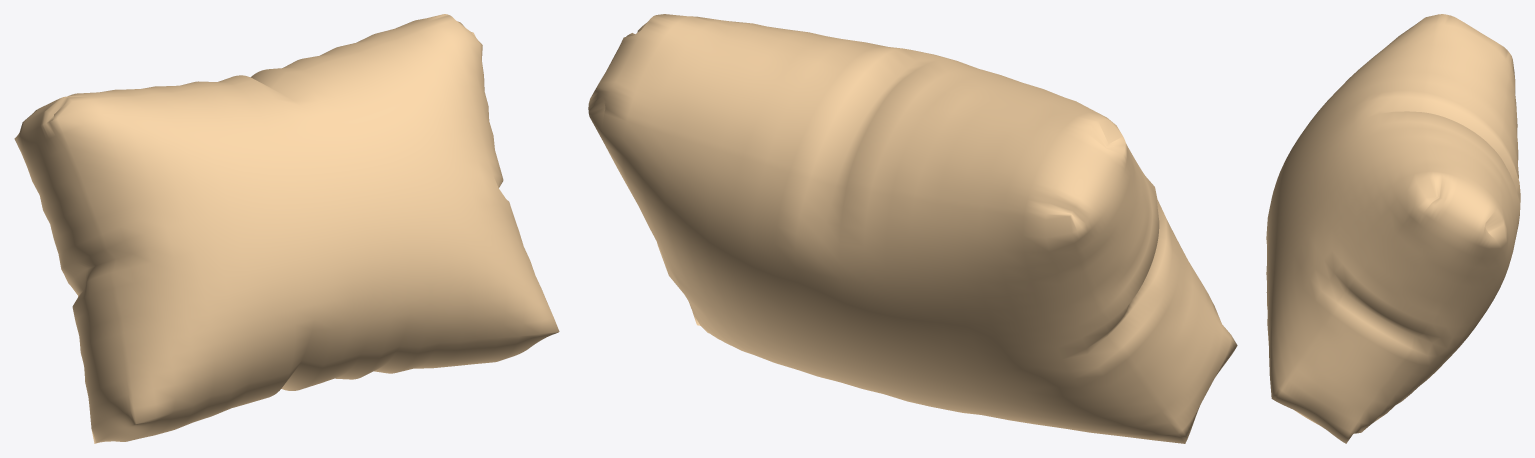
Rendered from coussin3.glb.
The picture shows the model from 3 angles, left to right: view 1: azimuth 30°, elevation 25°; view 2: azimuth 150°, elevation 25°; view 3: azimuth 270°, elevation 25°; orthographic projection. The views are drawn at different scales.
Parts seen in each view (by area): view 1: Coussin.003; view 2: Coussin.003; view 3: Coussin.003.
Part boxes in pixels (x1=…): Coussin.003: x1=14, y1=14, x2=559, y2=443; Coussin.003: x1=588, y1=14, x2=1237, y2=443; Coussin.003: x1=1266, y1=14, x2=1520, y2=443.
Size of the model in its own units: 4.93 by 3.33 by 2.89.
